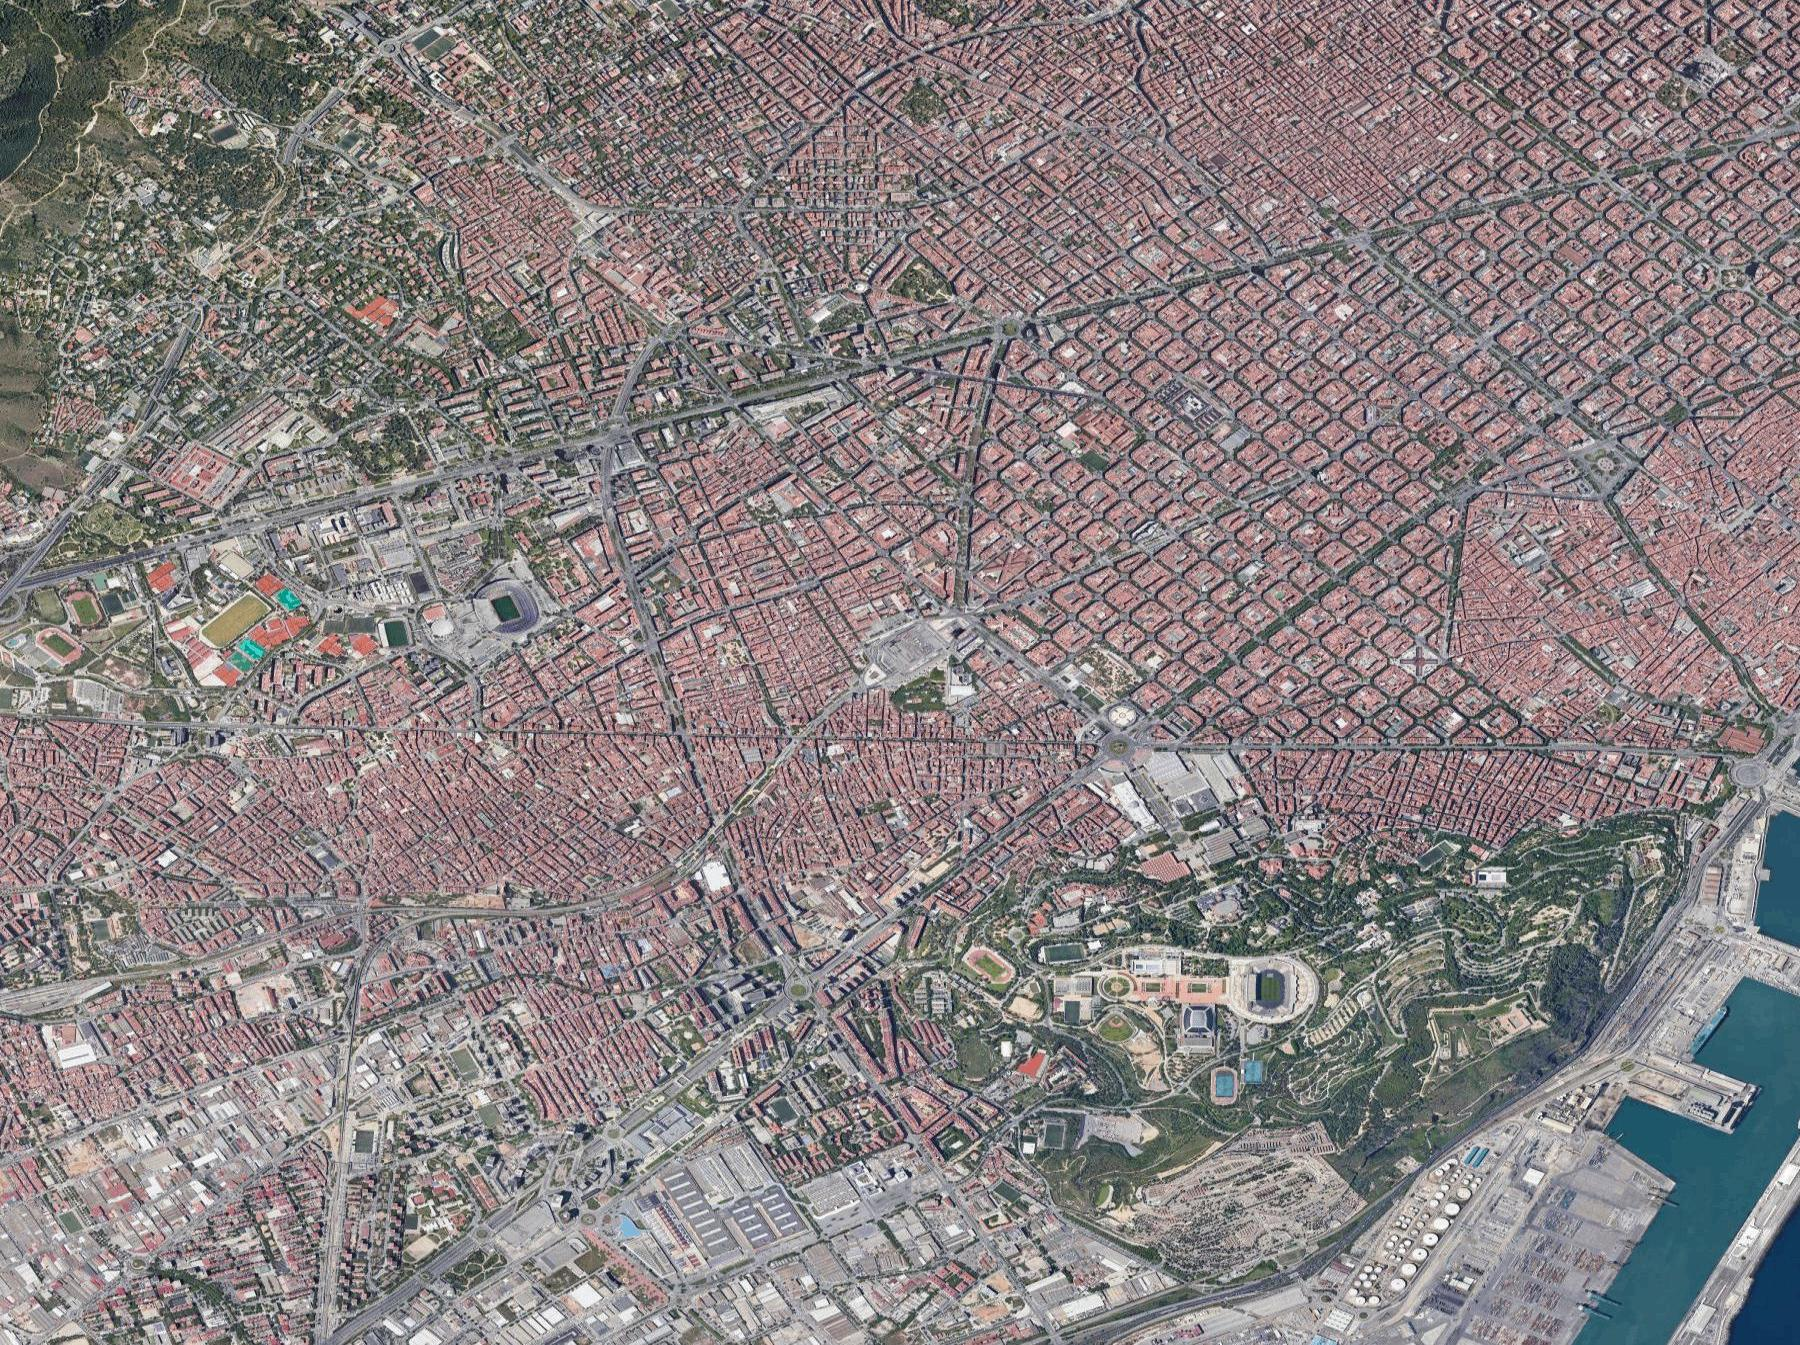harbor: (1450, 817, 1800, 1345)
train_station: (869, 615, 951, 680)
